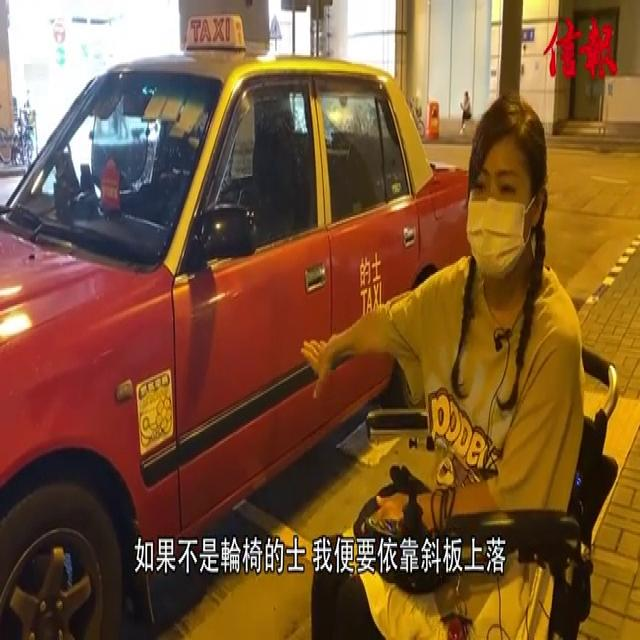wheelchairs: (357, 326, 626, 640)
